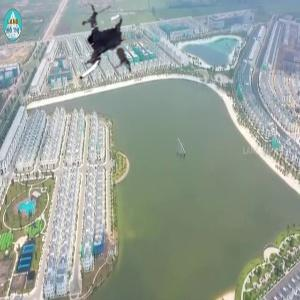drone: (51, 1, 144, 94)
